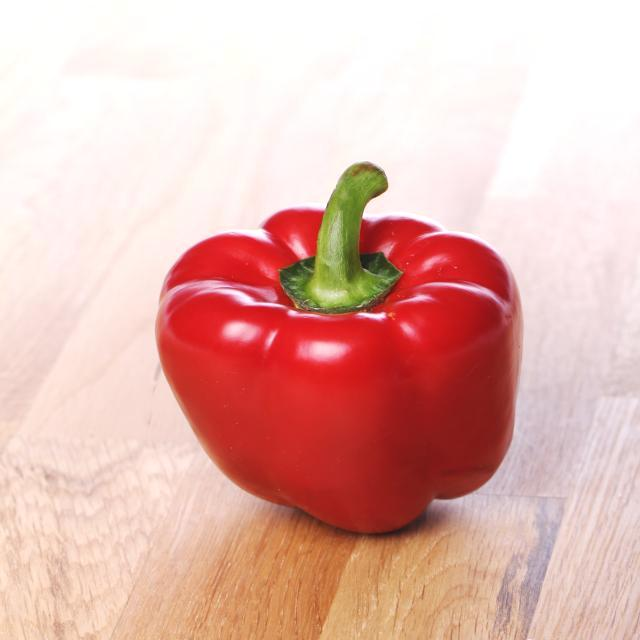bell_pepper: (150, 162, 546, 540)
